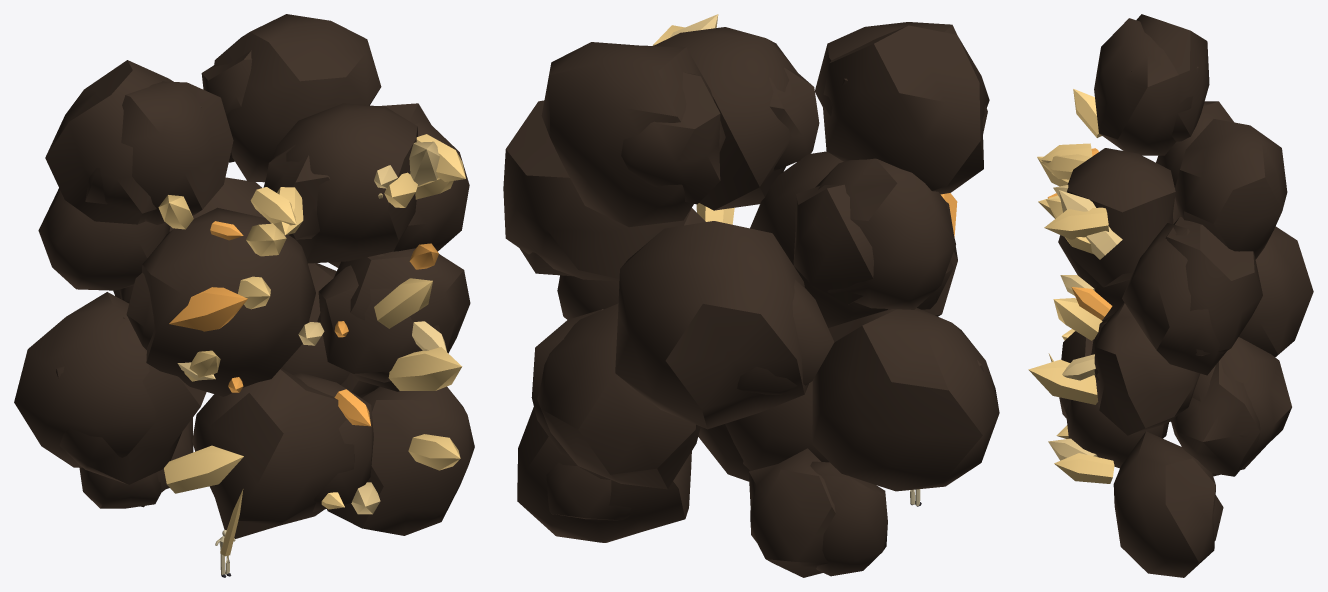
The model's file is gem_seam.glb.
The picture shows the model from 3 angles, left to right: view 1: azimuth 30°, elevation 25°; view 2: azimuth 150°, elevation 25°; view 3: azimuth 270°, elevation 25°; orthographic projection. The views are drawn at different scales.
Parts seen in each view (by area): view 1: gem_seam; view 2: gem_seam; view 3: gem_seam.
Boxes of the visible parts, x1,y1,x2,y2 form: gem_seam: (14,14,474,577); gem_seam: (503,14,999,577); gem_seam: (1028,14,1313,577).
Size of the model in its own units: 17.43 by 20.29 by 11.93.
